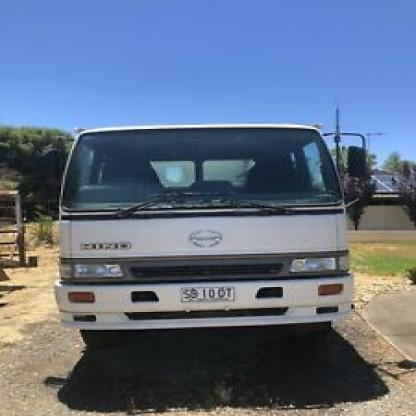dump_truck: (46, 111, 377, 347)
